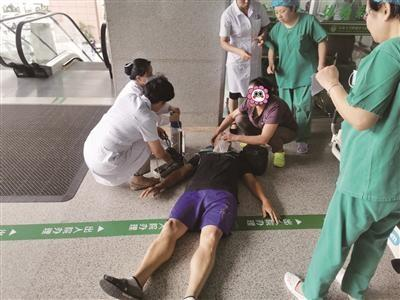fall: (85, 135, 283, 299)
